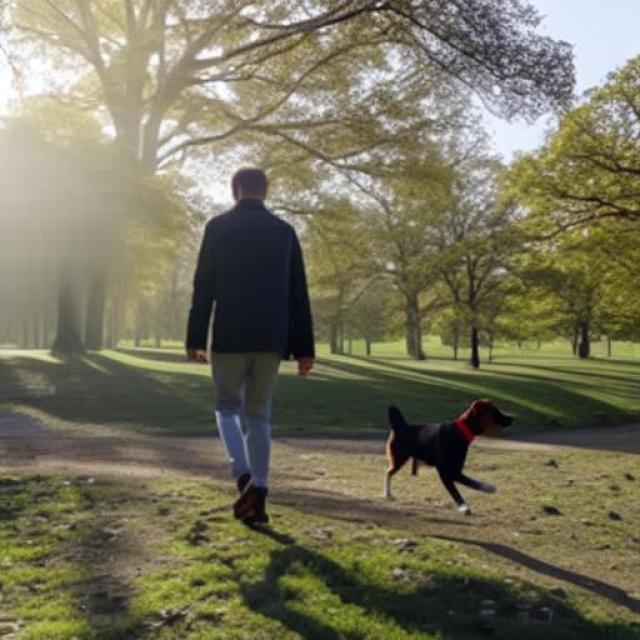Unleashed_Dog: (220, 319, 518, 517)
